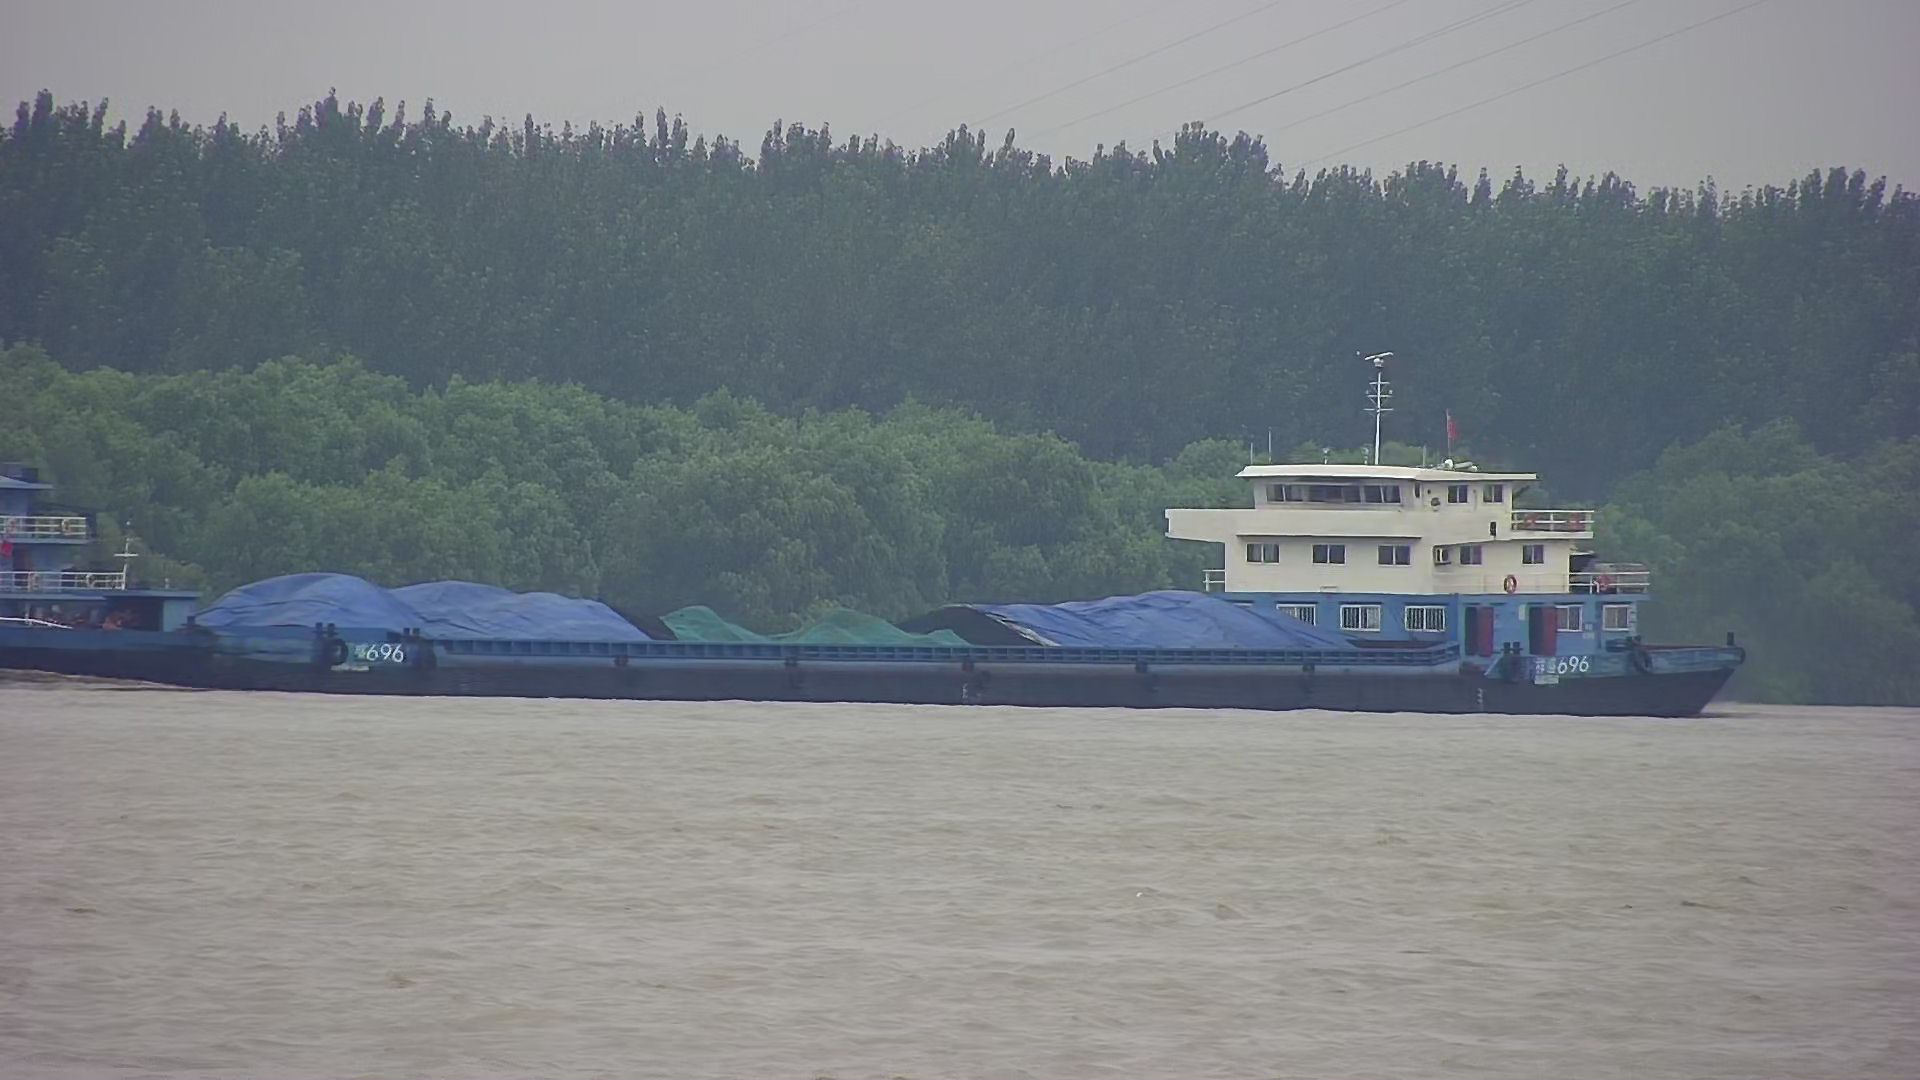ship: (4, 433, 1763, 720), (1, 444, 196, 699)
